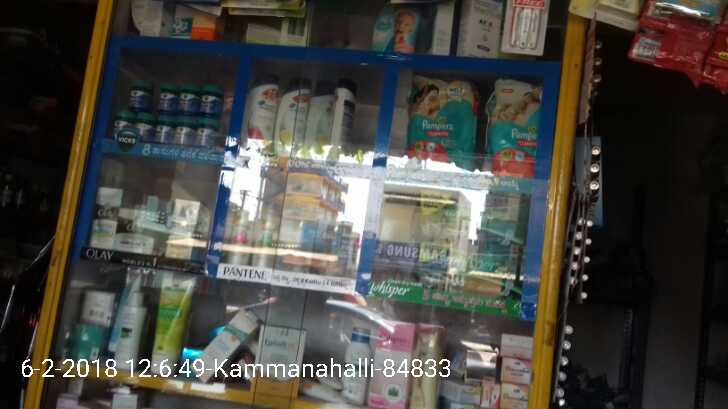beauty: (278, 75, 308, 161), (246, 78, 276, 160), (85, 186, 115, 249), (311, 74, 333, 159), (338, 78, 358, 167), (118, 208, 152, 252)
pharmacy: (407, 69, 480, 171), (486, 75, 535, 180), (197, 82, 225, 118), (127, 83, 158, 114), (174, 82, 203, 114), (192, 118, 218, 153), (153, 112, 173, 149), (131, 113, 156, 140), (158, 82, 178, 115), (172, 116, 192, 149), (109, 114, 134, 136)
